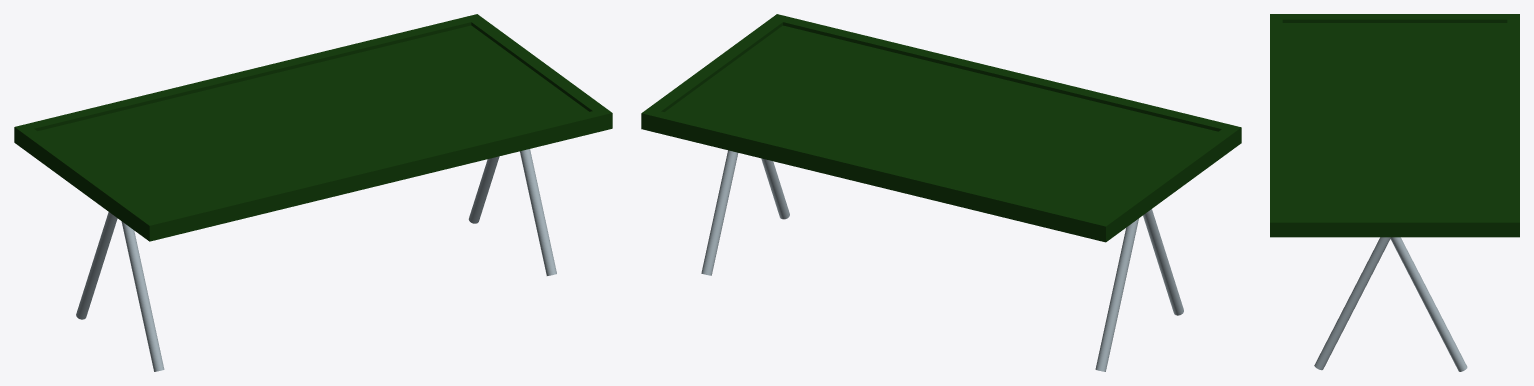
File: igftt_table.gltf
3 renders of one model, left to right at view 1: azimuth 30°, elevation 25°; view 2: azimuth 150°, elevation 25°; view 3: azimuth 270°, elevation 25°, orthographic. The views are drawn at different scales.
Visible parts, largest first — view 1: Cube, Cylinder.002; view 2: Cube, Cylinder.002; view 3: Cube, Cylinder.002.
Boxes of the visible parts, box(x1,y1,x2,y2) form: Cube: box(14, 14, 612, 241); Cylinder.002: box(76, 149, 556, 371); Cube: box(641, 14, 1241, 242); Cylinder.002: box(701, 150, 1183, 371); Cube: box(1270, 14, 1519, 237); Cylinder.002: box(1314, 237, 1467, 371).
Size of the model in its own units: 1.84 by 0.6713 by 0.929.
